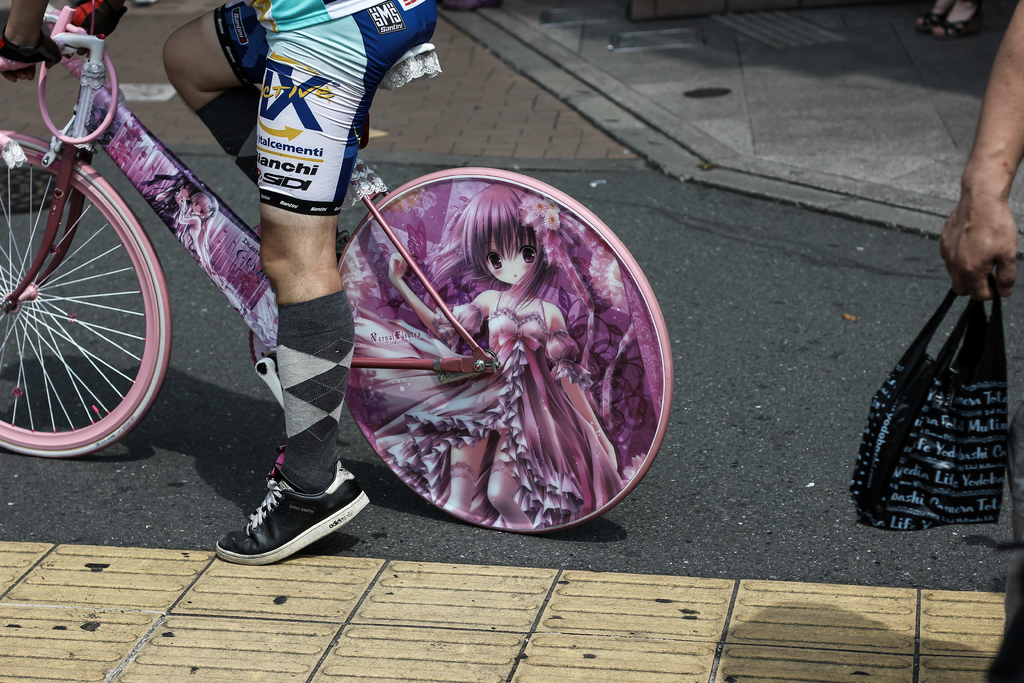Bike: (4, 22, 673, 546)
